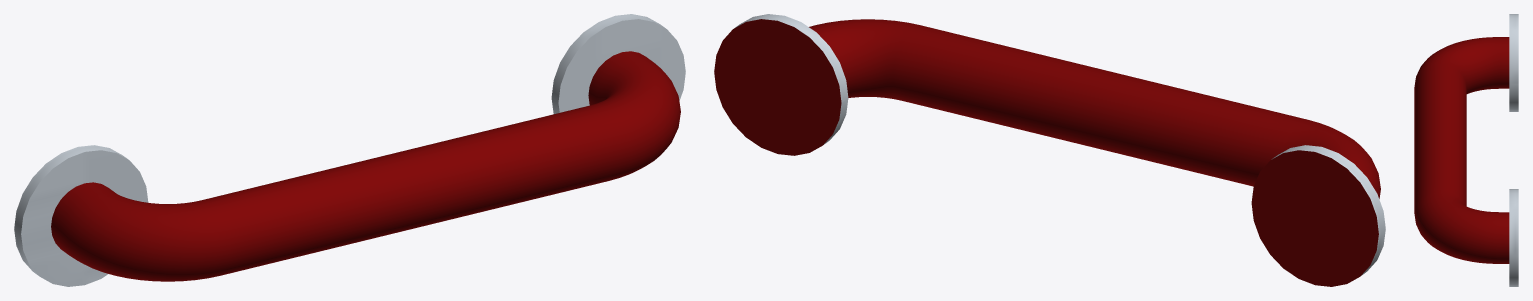
The model's file is handrail 1.gltf.
The picture shows the model from 3 angles, left to right: view 1: azimuth 30°, elevation 25°; view 2: azimuth 150°, elevation 25°; view 3: azimuth 270°, elevation 25°; orthographic projection. The views are drawn at different scales.
Visible parts, largest first — view 1: root; view 2: root; view 3: root.
Part boxes in pixels (box(x1,y1,x2,y2)): root: box(14, 14, 685, 286); root: box(714, 14, 1385, 286); root: box(1414, 14, 1518, 286).
Size of the model in its own units: 0.4436 by 0.085 by 0.09.
2 materials, 1 textured.
